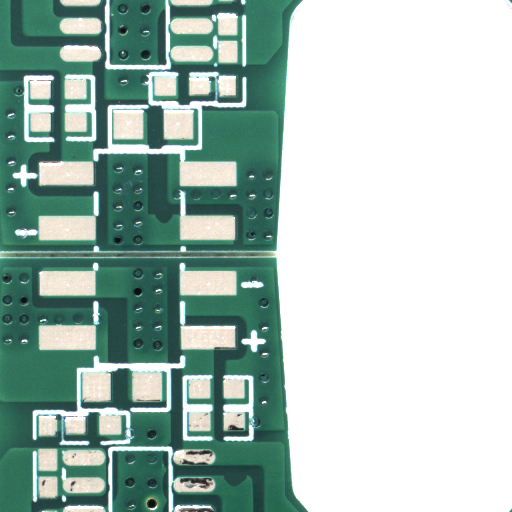Mouse_bite: (234, 481, 258, 495), (165, 218, 182, 230)
